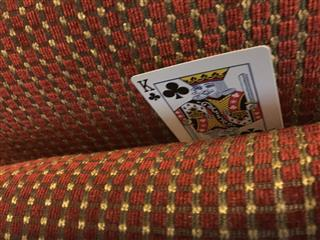KingOfClubs: (128, 43, 284, 142)
